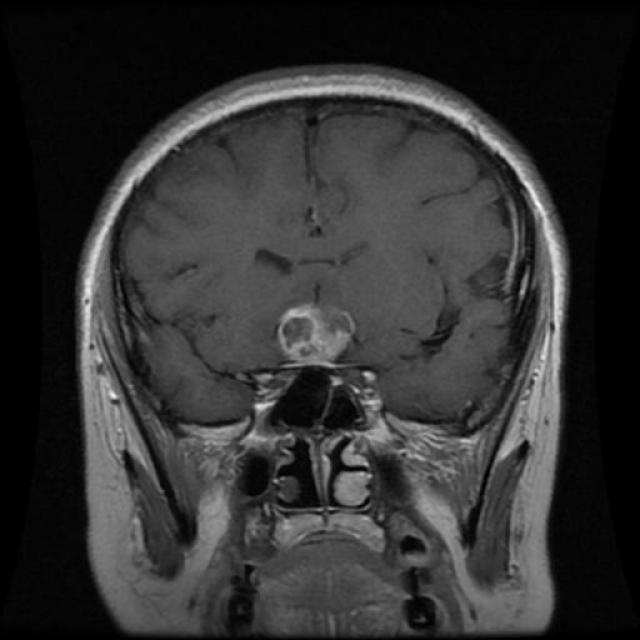Brain-Tumor: (263, 290, 371, 370)
